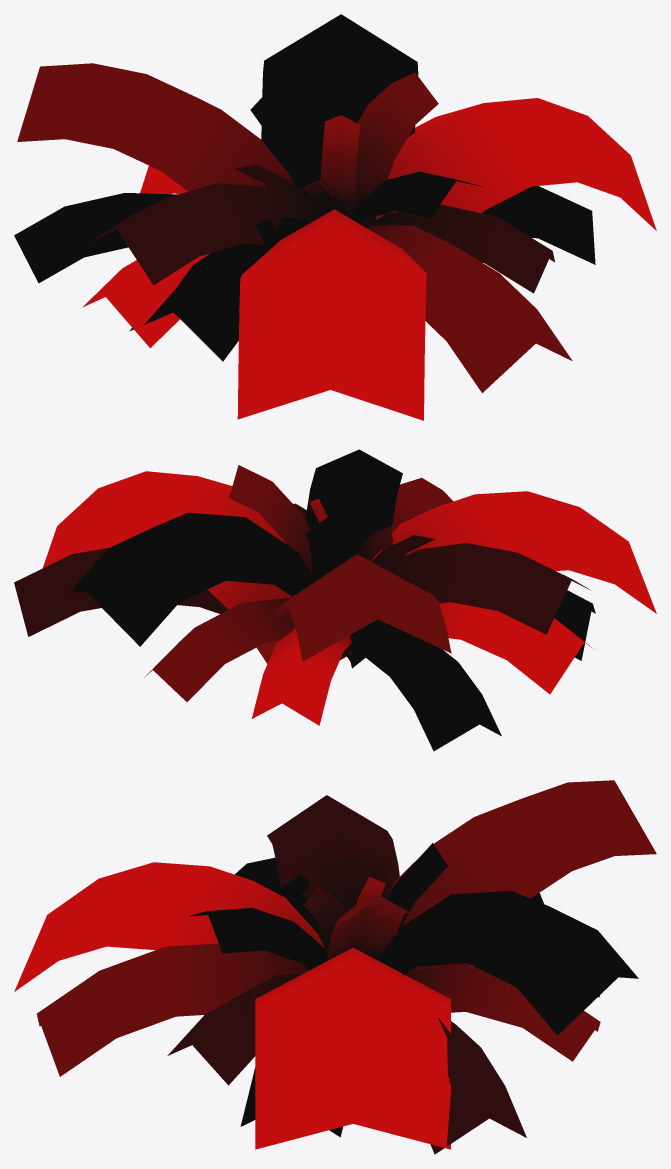
The model's file is Fern01_high.FBX.
3 views of the same model, one above another, from view 1: azimuth 30°, elevation 25°; view 2: azimuth 150°, elevation 25°; view 3: azimuth 270°, elevation 25° (orthographic). The views are drawn at different scales.
Parts seen in each view (by area): view 1: Fern01_high; view 2: Fern01_high; view 3: Fern01_high.
Part boxes in pixels (x1,y1,x2,y2): Fern01_high: (14, 14, 656, 420); Fern01_high: (14, 449, 656, 751); Fern01_high: (14, 780, 656, 1154).
Bounding box in the file's own units: 1.39 × 0.442 × 1.4.
